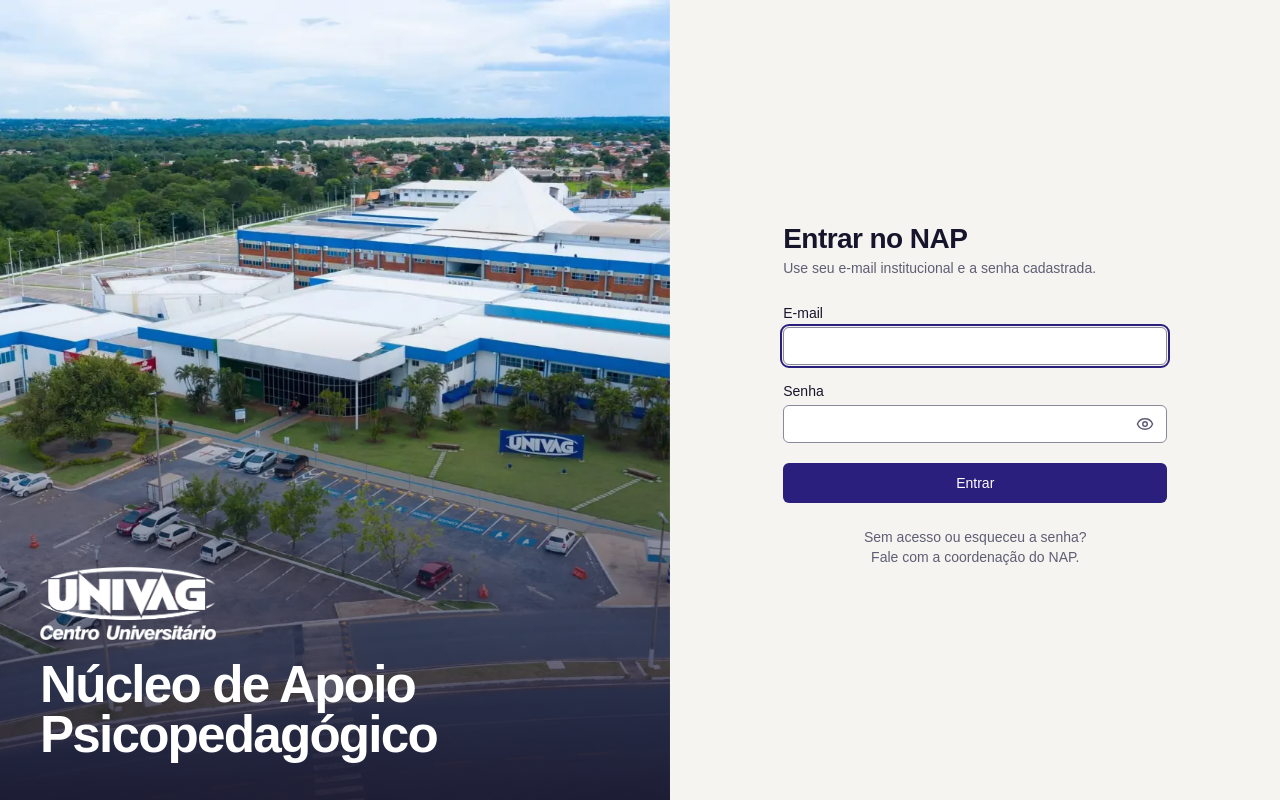
Test case: LoginPage › servidor_fora_mostra_a_mensagem_real_e_nao_culpa_a_senha
Type "ana@nap.demo" into the field labelled "E-mail" at (975, 346), box [783,327,1167,365]
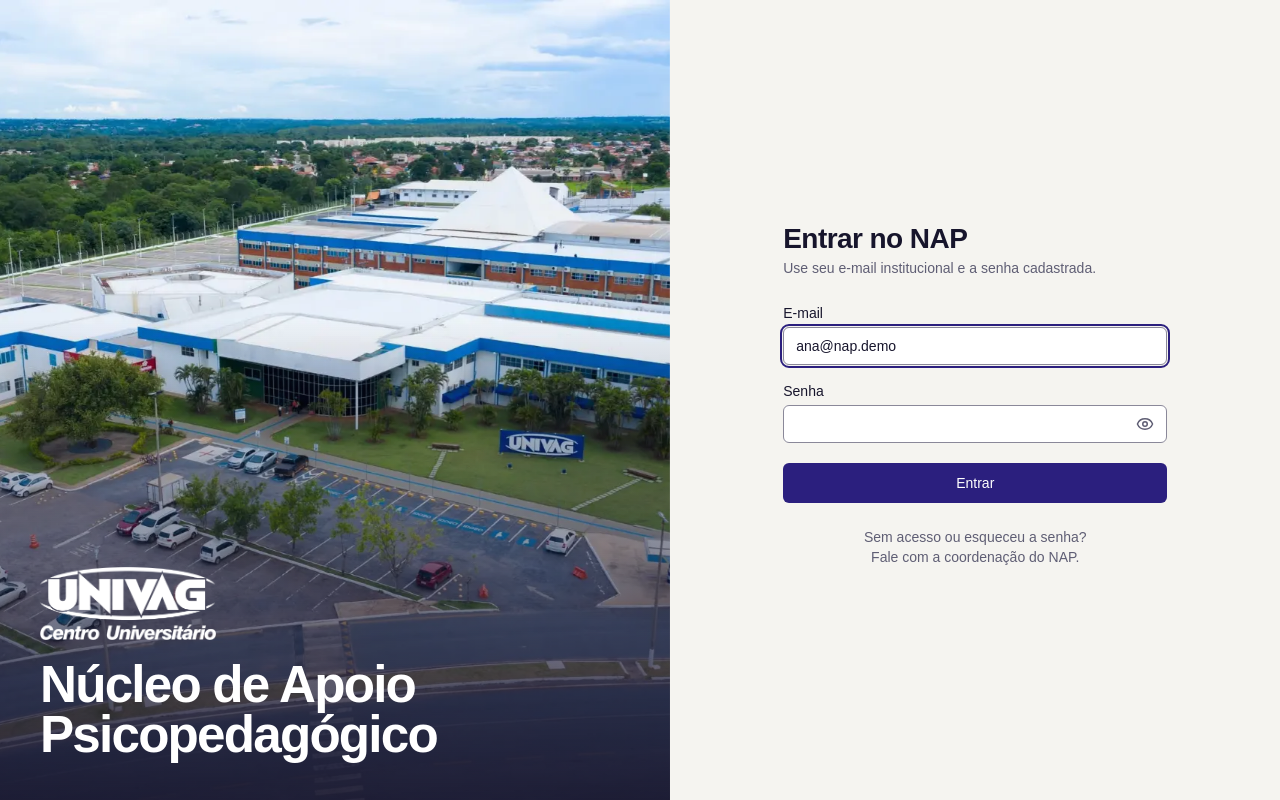
Type "Senha12345" into the password field labelled "Senha" at (975, 424), box [783,405,1167,443]
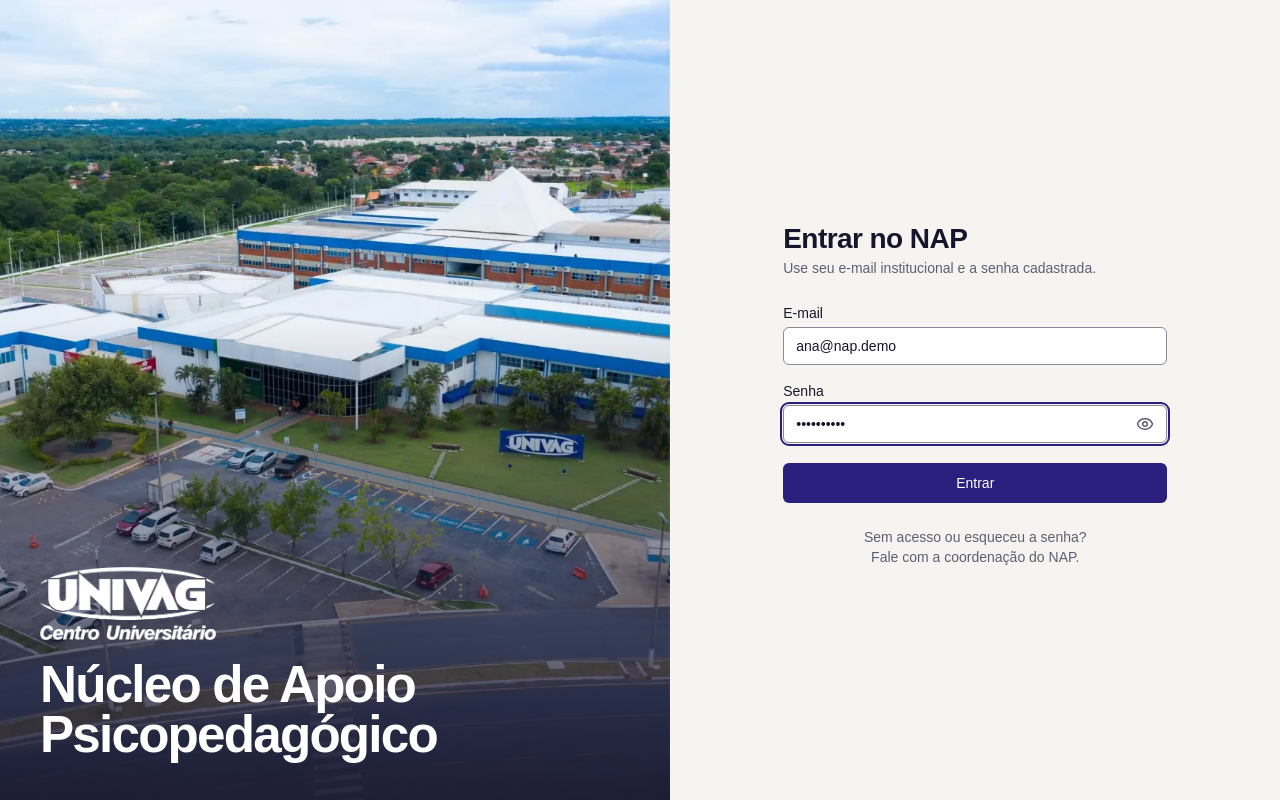
Click the button "Entrar" at (975, 483), box [783,463,1167,503]
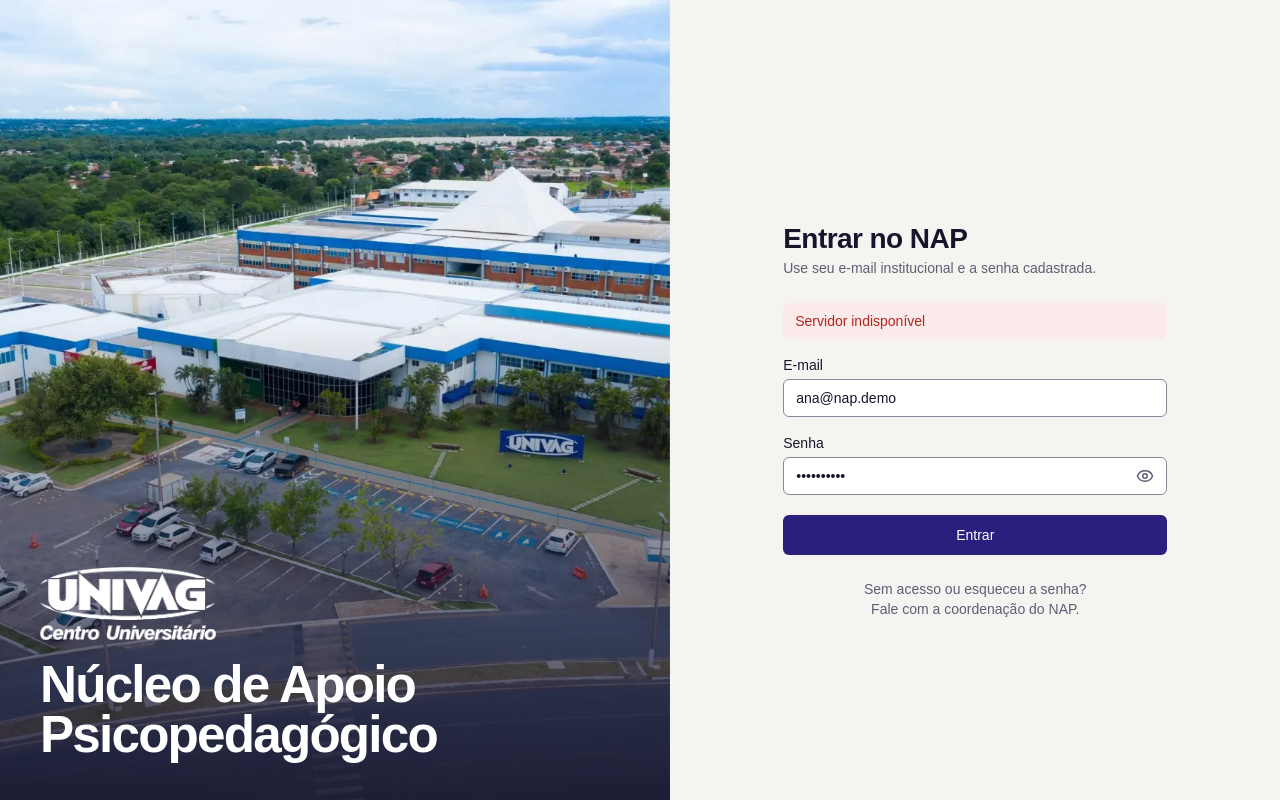
expect the message reads "Servidor indisponível": met, box [795,313,925,329]
